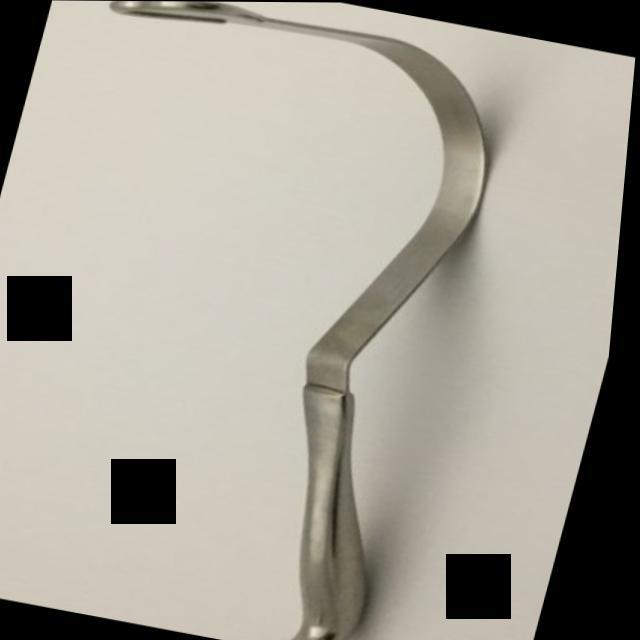Hrrington retractor: (0, 0, 533, 640)
